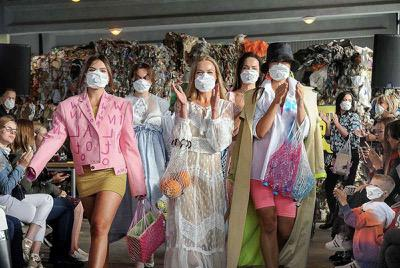with_mask: (193, 68, 216, 93), (86, 65, 109, 90), (268, 59, 291, 82), (239, 64, 260, 85), (133, 73, 152, 95), (365, 182, 383, 202), (3, 96, 17, 110), (339, 98, 352, 113), (375, 101, 383, 116)
without_mask: (2, 125, 17, 145), (386, 133, 395, 152), (373, 127, 383, 144)
